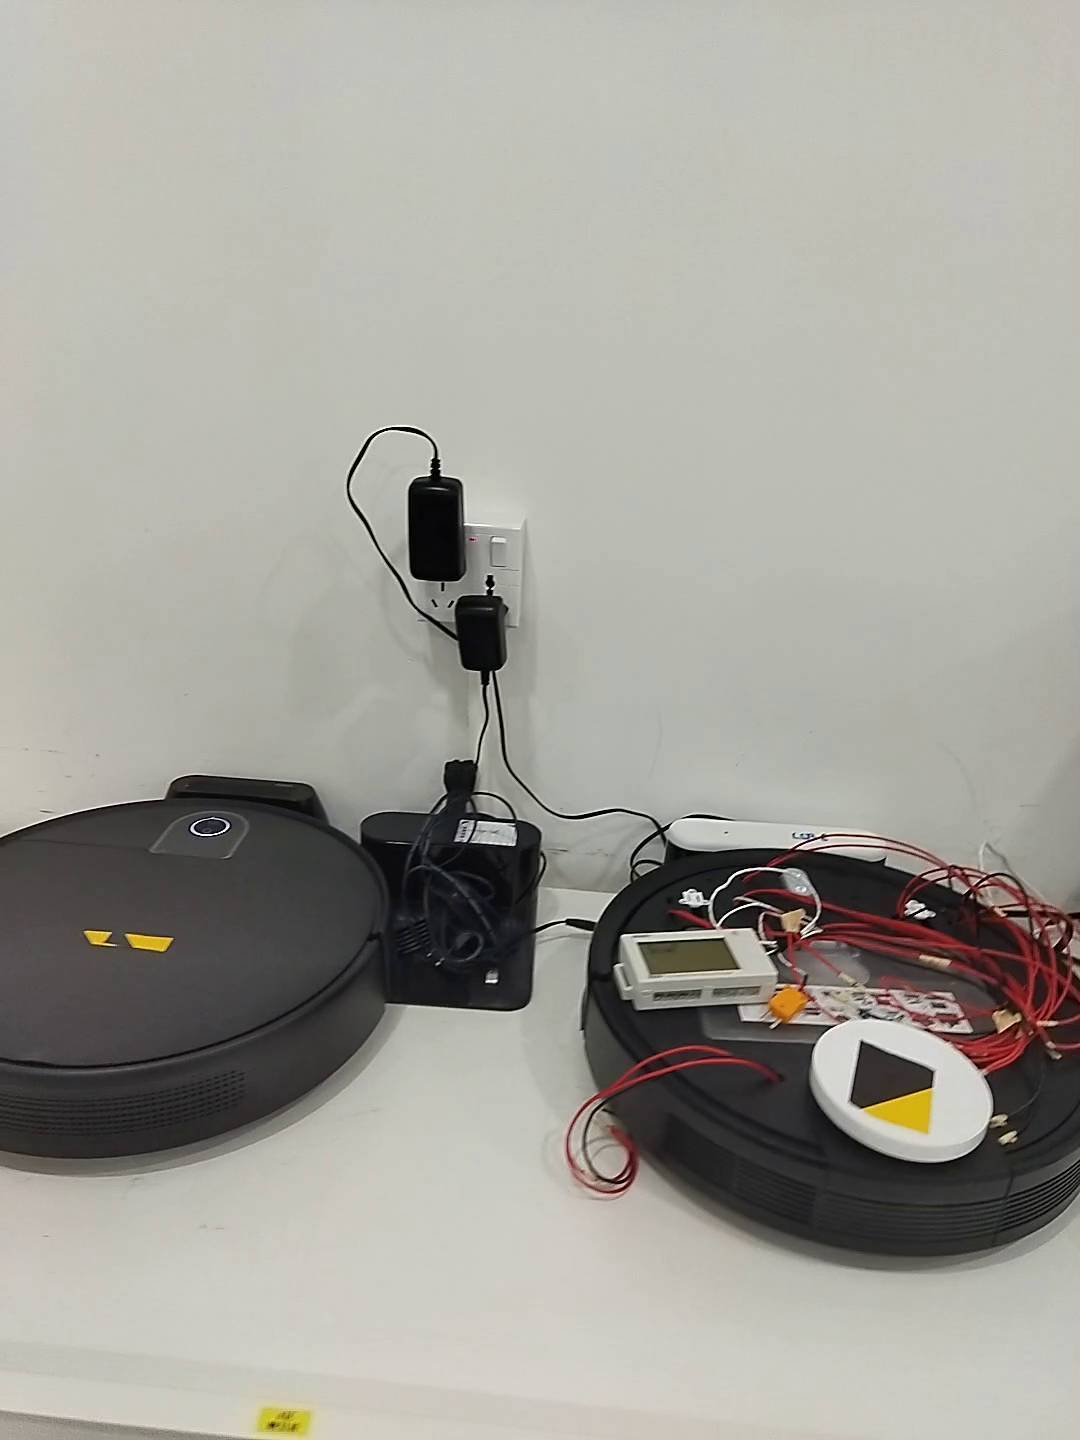recharge seat: (358, 808, 546, 1008)
